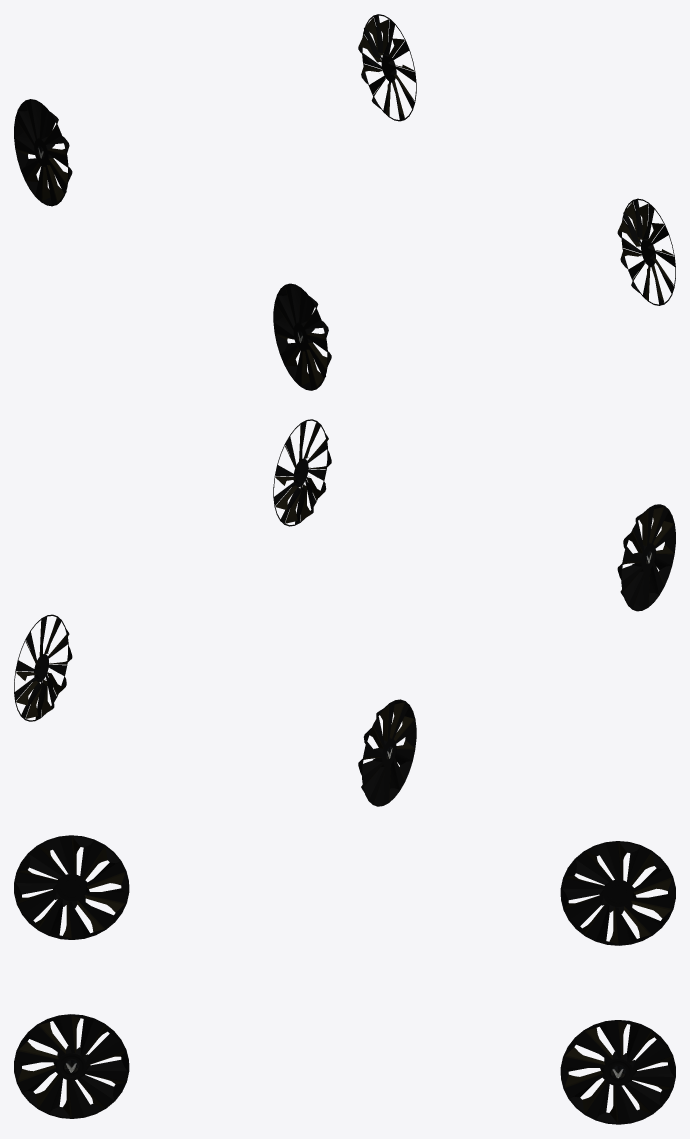
3 views of the same model, one above another, from view 1: azimuth 30°, elevation 25°; view 2: azimuth 150°, elevation 25°; view 3: azimuth 270°, elevation 25° (orthographic). The views are drawn at different scales.
Visible parts, largest first — view 1: 2; view 2: 2; view 3: 2.
Part boxes in pixels (box(x1,y1,x2,y2)): 2: box(14, 14, 675, 390); 2: box(14, 419, 675, 806); 2: box(14, 835, 675, 1124).
Bounding box in the file's own units: 0.9731 × 0.2795 × 1.52.
4 materials, 1 textured.
